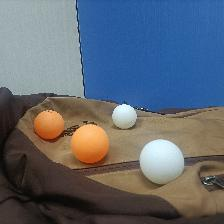WhiteBall: (138, 139, 183, 185), (111, 103, 136, 129)
YellowBall: (69, 124, 109, 163), (34, 109, 63, 139)
